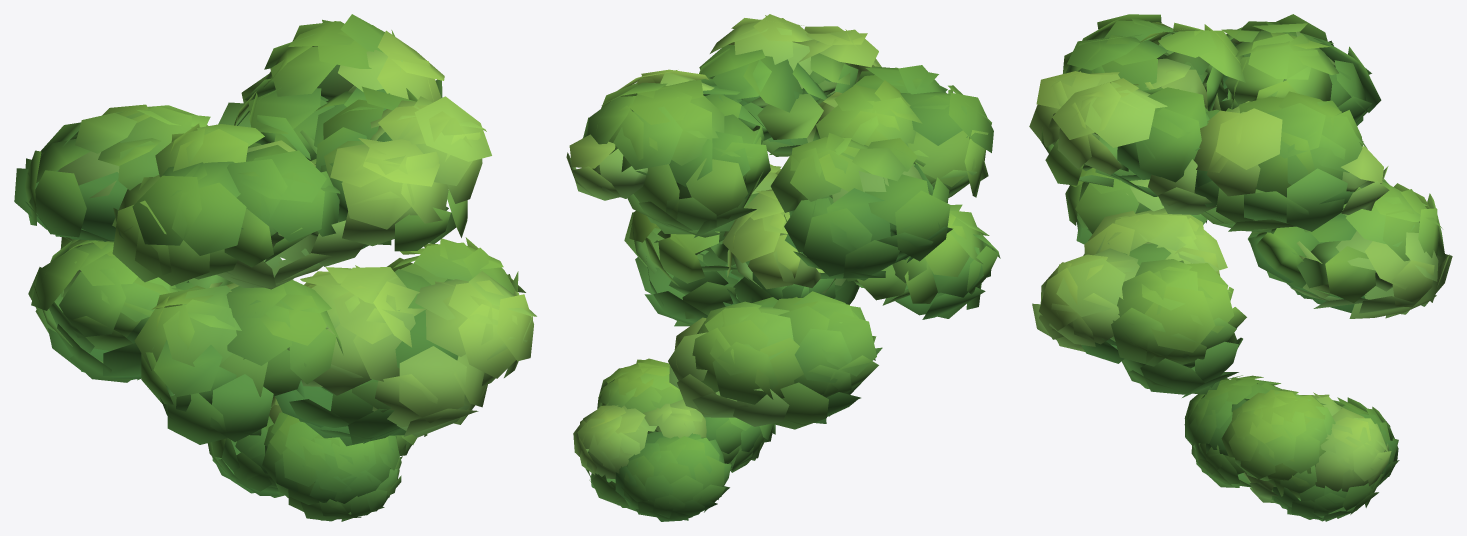
Rendered from zon_lookout_leaves_lite_raw.glb.
3 views of the same model, side by side, from view 1: azimuth 30°, elevation 25°; view 2: azimuth 150°, elevation 25°; view 3: azimuth 270°, elevation 25° (orthographic). The views are drawn at different scales.
Visible parts, largest first — view 1: SM_zon_lookout_leaves_lite_veg_leaf_clip_x0_zm1_raw; view 2: SM_zon_lookout_leaves_lite_veg_leaf_clip_x0_zm1_raw; view 3: SM_zon_lookout_leaves_lite_veg_leaf_clip_x0_zm1_raw.
Part boxes in pixels (x1,y1,x2,y2): SM_zon_lookout_leaves_lite_veg_leaf_clip_x0_zm1_raw: [14, 14, 536, 521]; SM_zon_lookout_leaves_lite_veg_leaf_clip_x0_zm1_raw: [566, 14, 1000, 521]; SM_zon_lookout_leaves_lite_veg_leaf_clip_x0_zm1_raw: [1029, 14, 1452, 521].
Size of the model in its own units: 19.68 by 21.09 by 19.44.
